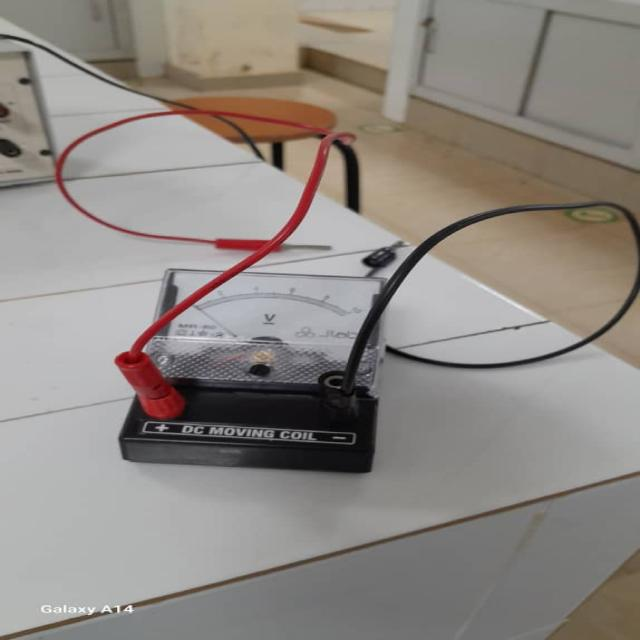Voltmeter: (60, 233, 444, 479)
